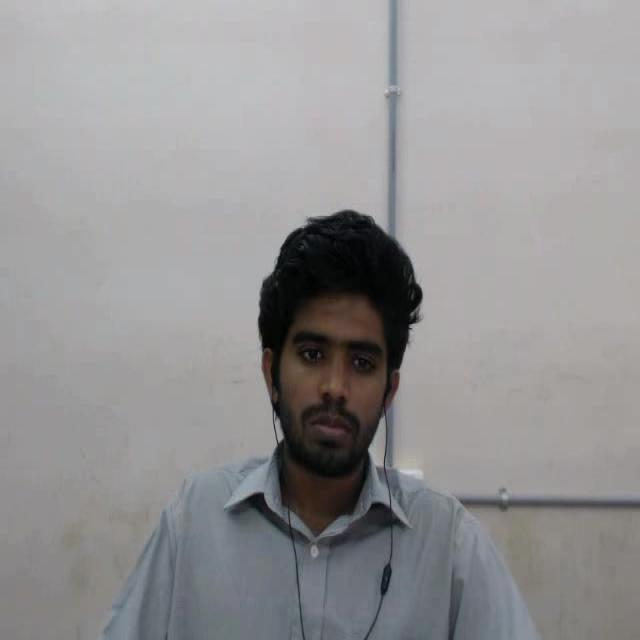Engaged: (234, 184, 454, 555)
